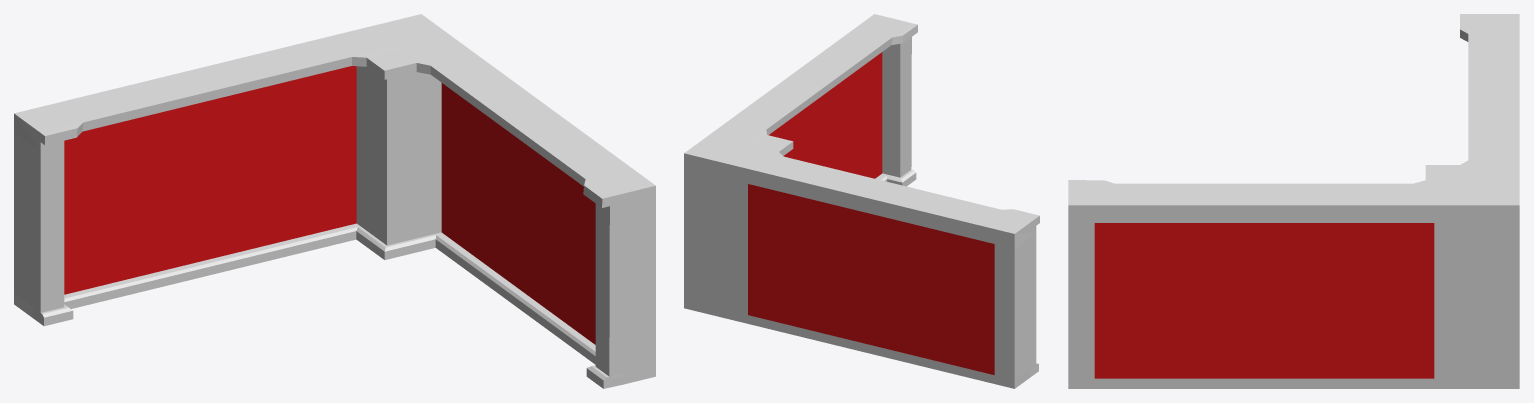
Rendered from Wall corner in Top.fbx.
The picture shows the model from 3 angles, left to right: view 1: azimuth 30°, elevation 25°; view 2: azimuth 150°, elevation 25°; view 3: azimuth 270°, elevation 25°; orthographic projection. The views are drawn at different scales.
Parts seen in each view (by area): view 1: Corner in flat top; view 2: Corner in flat top; view 3: Corner in flat top.
Boxes of the visible parts, x1,y1,x2,y2 form: Corner in flat top: [14, 14, 655, 388]; Corner in flat top: [684, 14, 1039, 388]; Corner in flat top: [1068, 14, 1519, 388].
Size of the model in its own units: 637 by 286 by 636.
